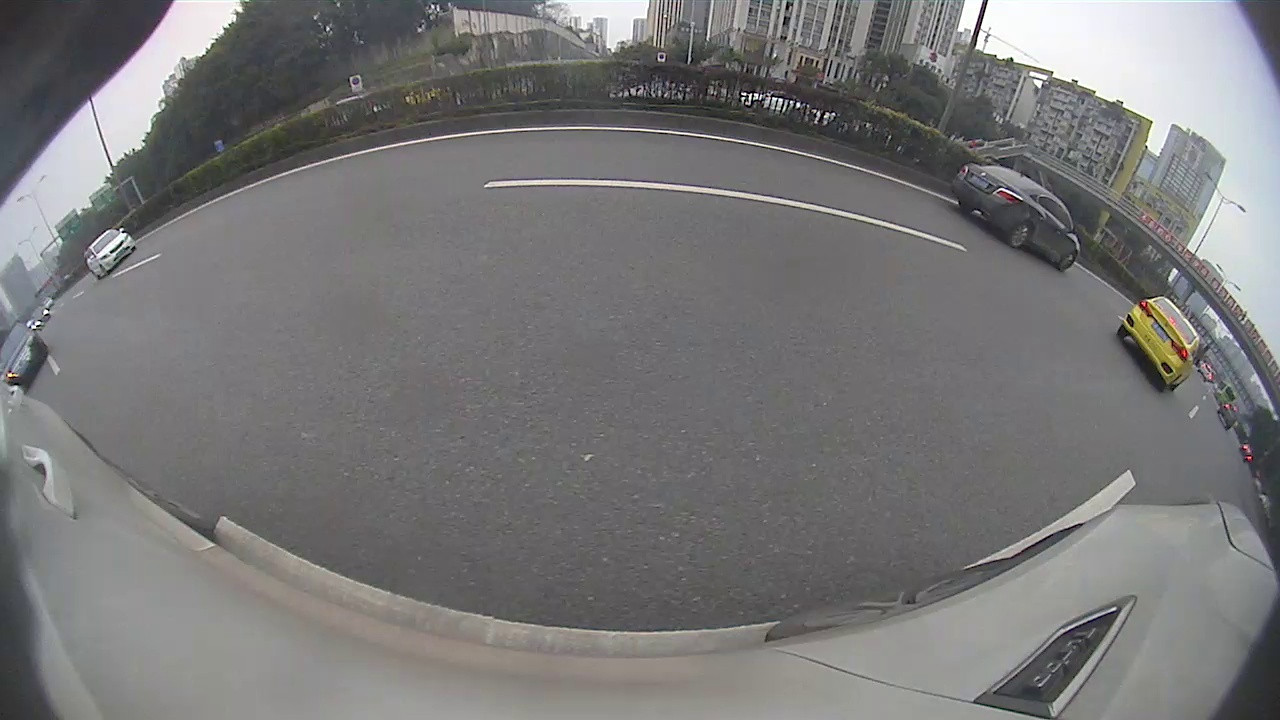car: (949, 160, 1083, 274), (1112, 275, 1203, 394), (2, 319, 51, 393), (82, 224, 138, 279)
front: (1052, 252, 1075, 273)
rear: (1005, 222, 1031, 251)
